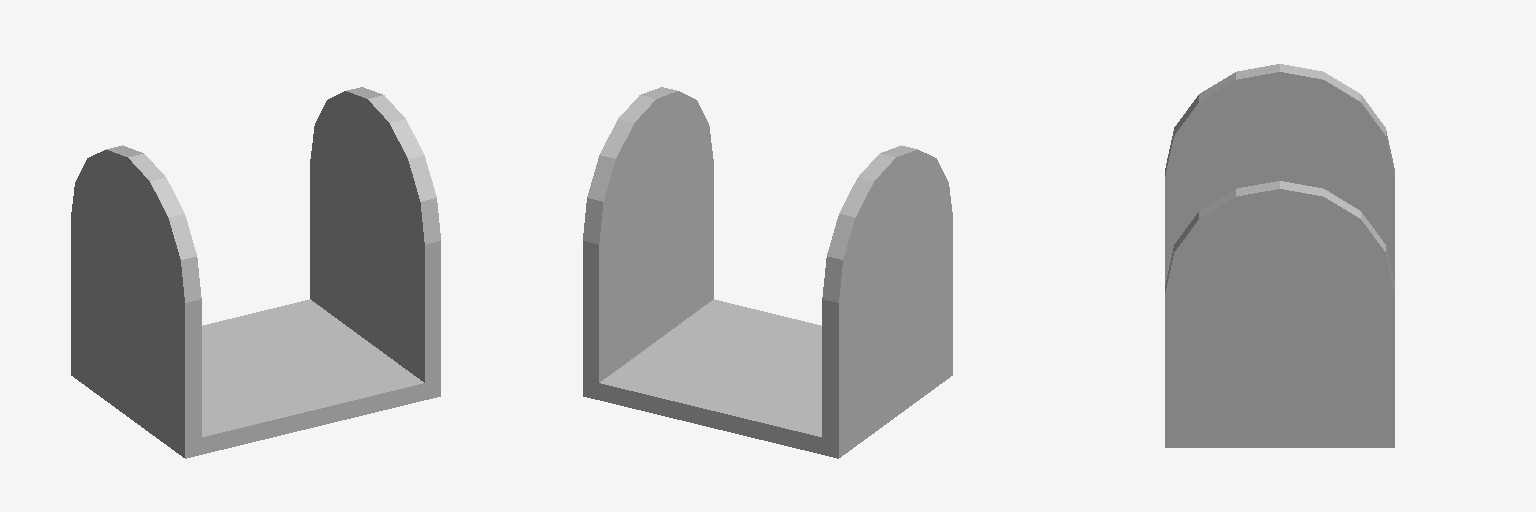
The model's file is rightLeg1.obj.
3 renders of one model, left to right at view 1: azimuth 30°, elevation 25°; view 2: azimuth 150°, elevation 25°; view 3: azimuth 270°, elevation 25°, orthographic.
Visible parts, largest first — view 1: unnamed_object1; view 2: unnamed_object1; view 3: unnamed_object1.
Part boxes in pixels (left/top/right/bottom): unnamed_object1: left=71, top=87, right=440, bottom=458; unnamed_object1: left=583, top=87, right=952, bottom=458; unnamed_object1: left=1165, top=64, right=1394, bottom=447.
Bounding box in the file's own units: 7.75 × 7.5 × 6.